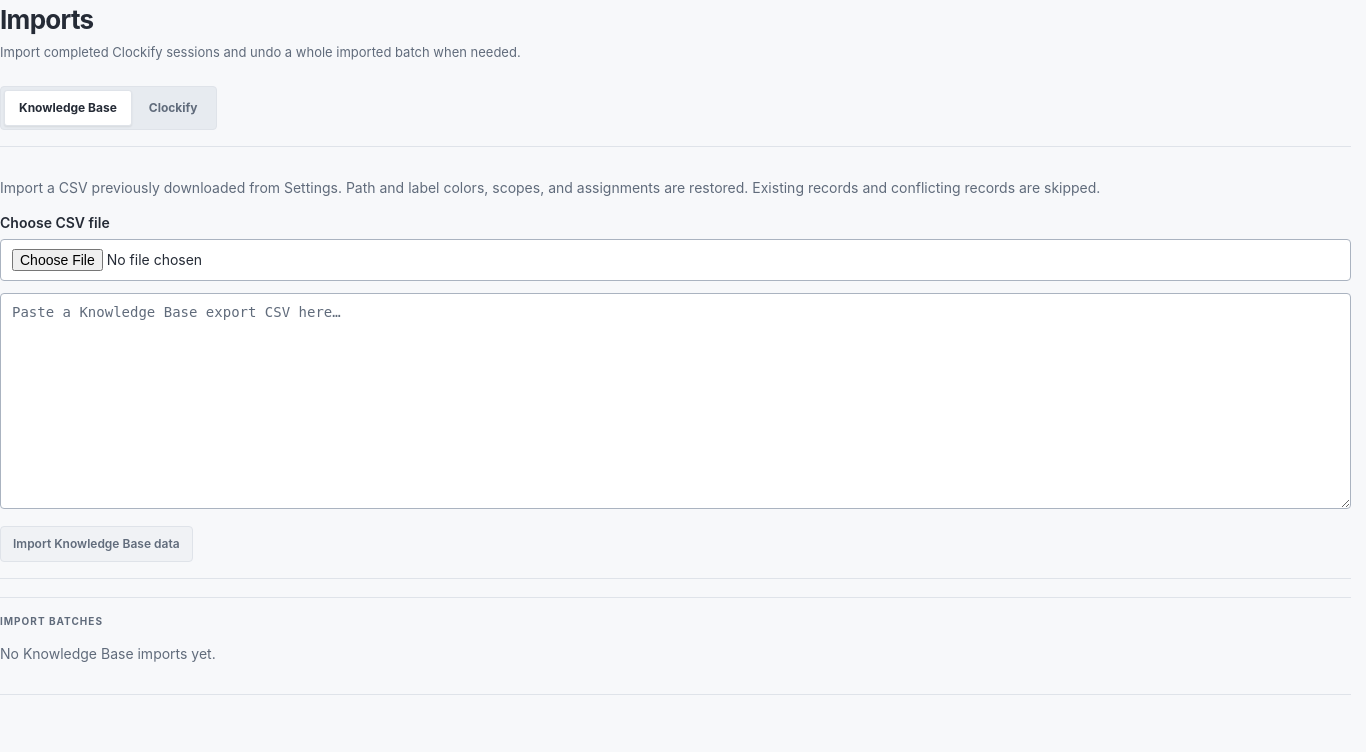
ImportsView › paginates import history with five batches per page
Click the tab with id "imports-tab-clockify": coordinates (173, 108) [134, 90, 213, 126]
(page scrolled)
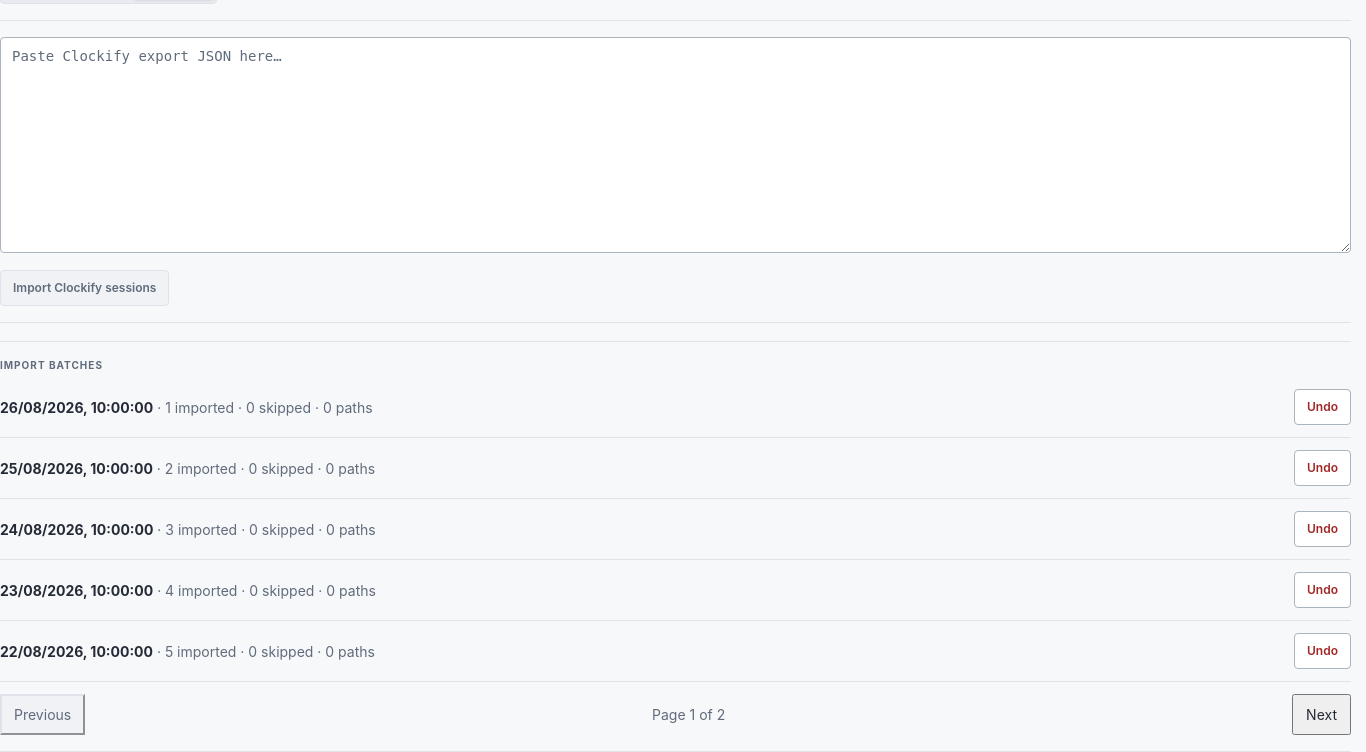
Check: the number of elements with class "history-row" is 5, box [0, 377, 1351, 438]; [0, 438, 1351, 499]; [0, 499, 1351, 560]; [0, 560, 1351, 621]; [0, 621, 1351, 682]
Check: the text "Page 1 of 2" is shown, box [652, 704, 725, 725]
Click the button "Next": coordinates (1322, 715) [1292, 694, 1351, 735]
(page scrolled)
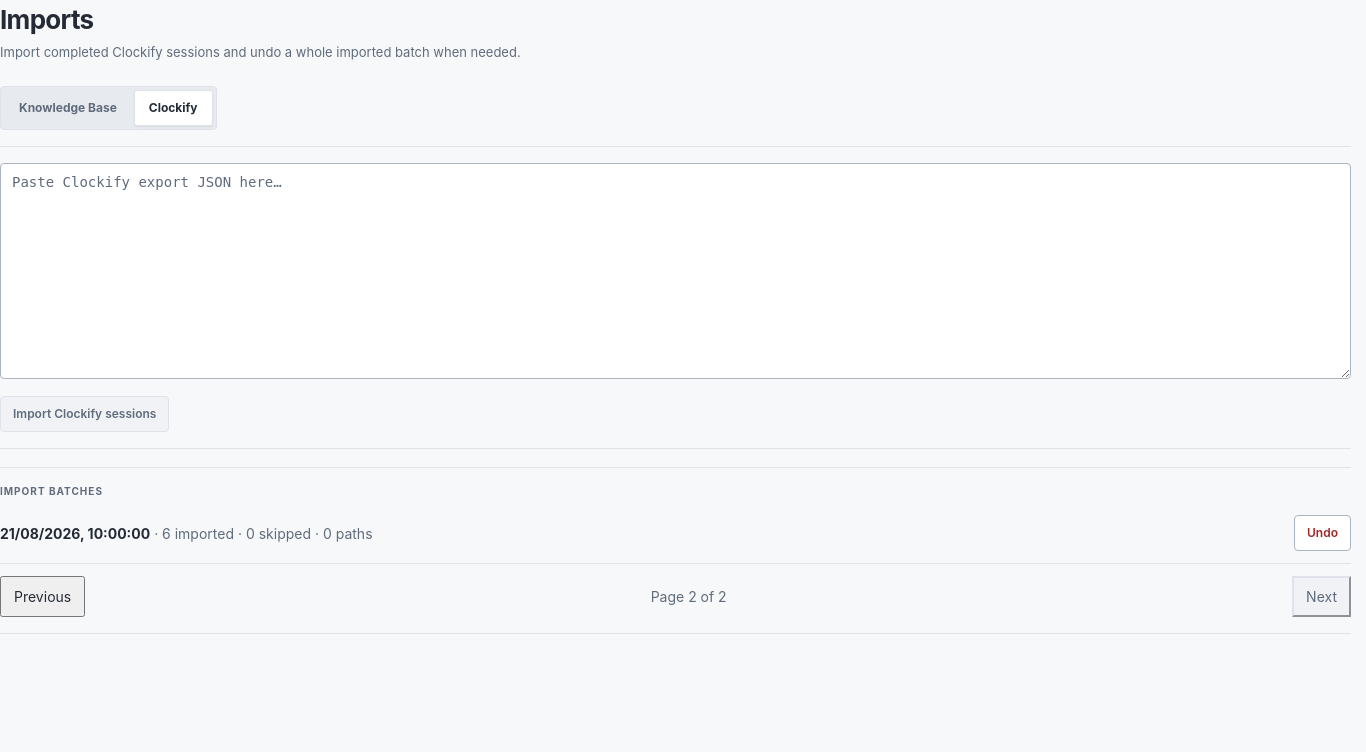
Check: the number of elements with class "history-row" is 1, box [0, 503, 1351, 564]
Check: the text "Page 2 of 2" is shown, box [651, 586, 727, 607]
